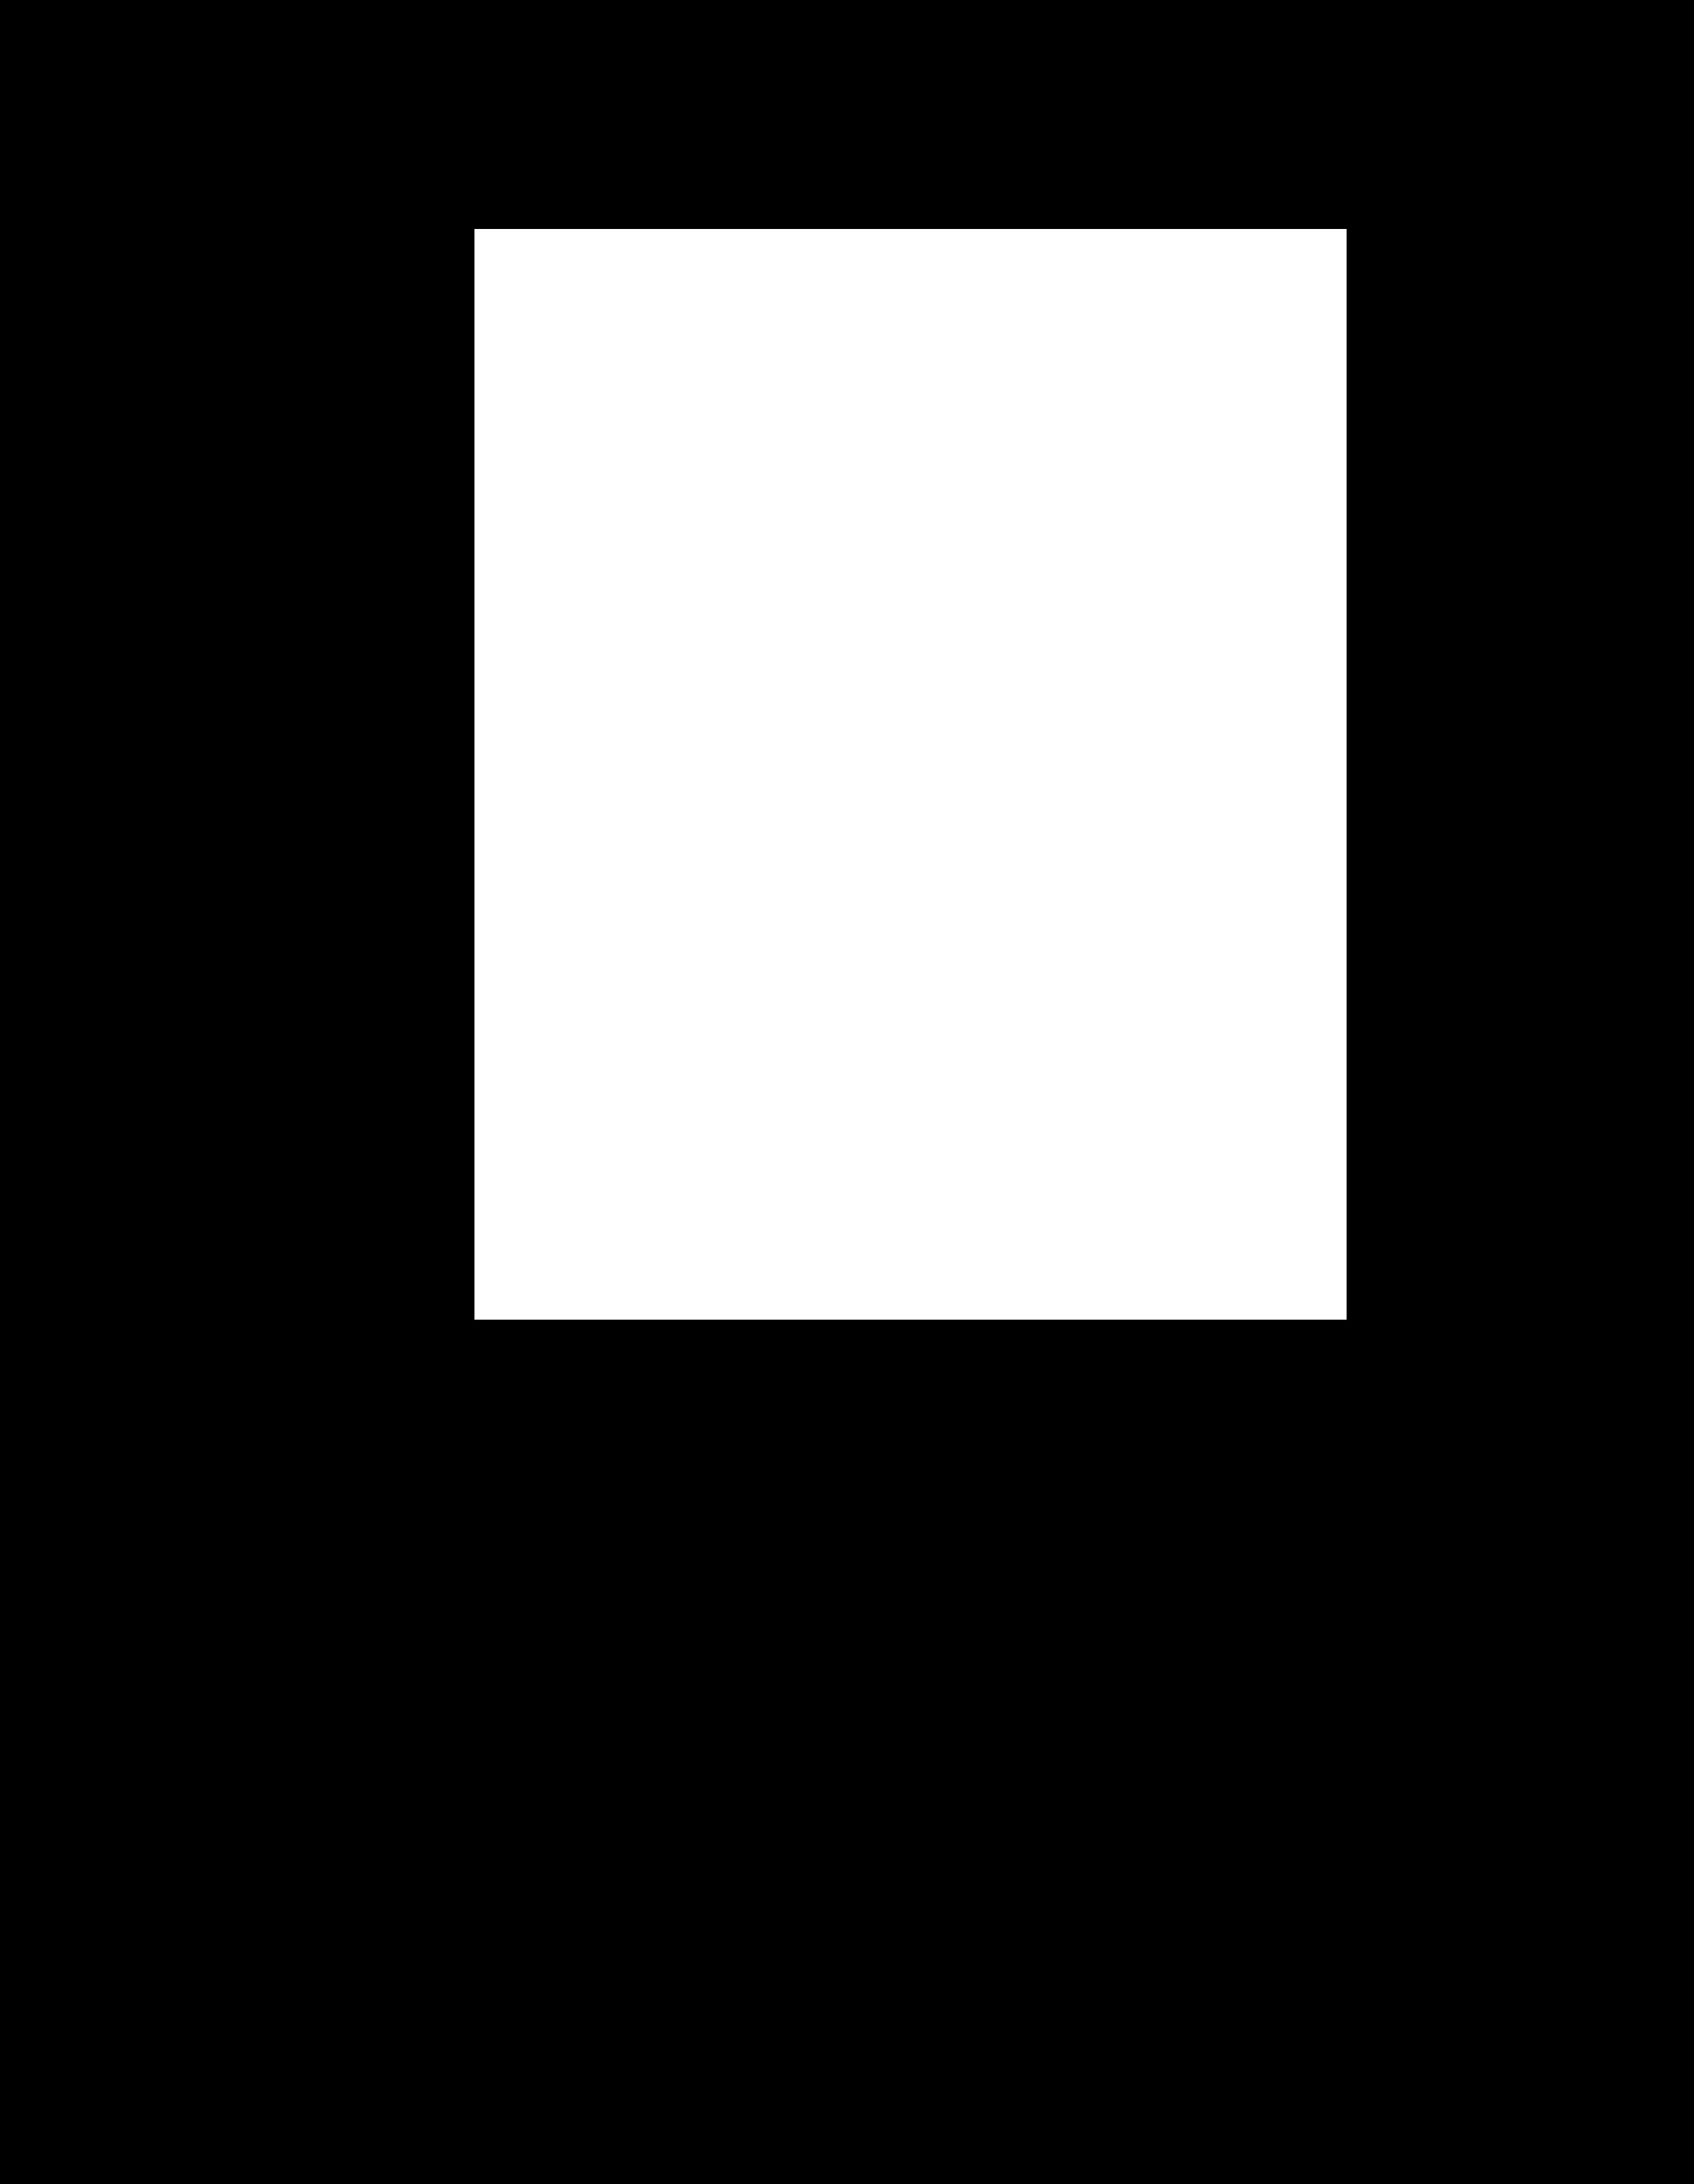table: (475, 229, 1347, 1319)
